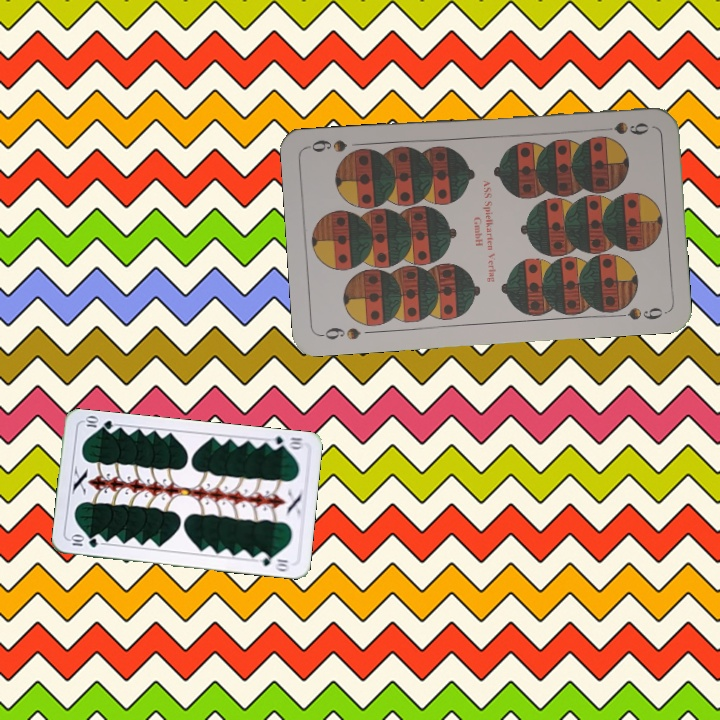G10: (265, 432, 306, 452), (66, 532, 100, 550)
S9: (594, 117, 651, 137), (317, 323, 363, 343)
